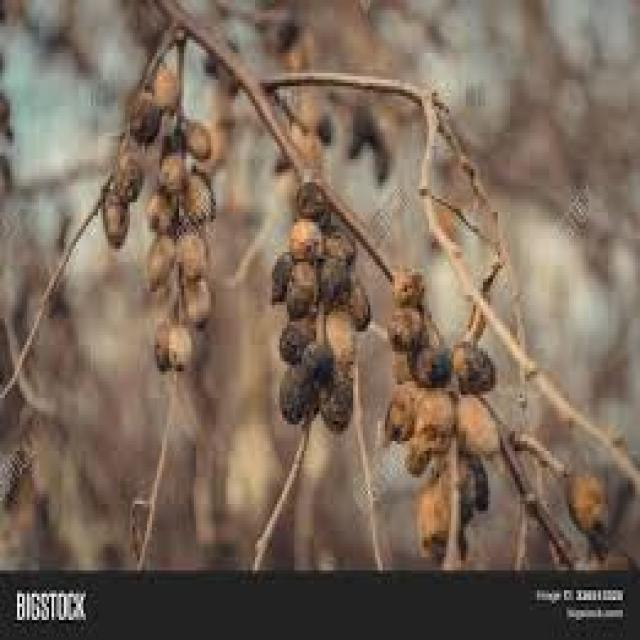biodegradable: (414, 461, 449, 564), (564, 464, 608, 541), (451, 388, 500, 448), (410, 388, 451, 448), (402, 338, 449, 388), (378, 375, 419, 431), (312, 302, 353, 358), (449, 338, 493, 388), (280, 362, 317, 421), (280, 255, 312, 322), (316, 368, 351, 428), (142, 229, 174, 292), (368, 106, 397, 169), (182, 166, 214, 222), (387, 299, 422, 348), (172, 229, 206, 278), (282, 17, 311, 73), (297, 335, 329, 385), (147, 57, 177, 110), (127, 86, 157, 139), (103, 179, 127, 245), (312, 252, 344, 298), (182, 272, 209, 325), (280, 319, 312, 362), (267, 246, 292, 299), (346, 272, 368, 332), (464, 448, 486, 507), (294, 176, 326, 216), (113, 149, 140, 196), (145, 186, 174, 229), (167, 315, 189, 371), (319, 225, 351, 262), (287, 219, 316, 259), (346, 93, 365, 152), (150, 312, 169, 371), (182, 116, 209, 156), (390, 262, 422, 295), (302, 96, 329, 133), (157, 149, 181, 189), (402, 434, 424, 471), (157, 126, 181, 156), (314, 206, 331, 232)
